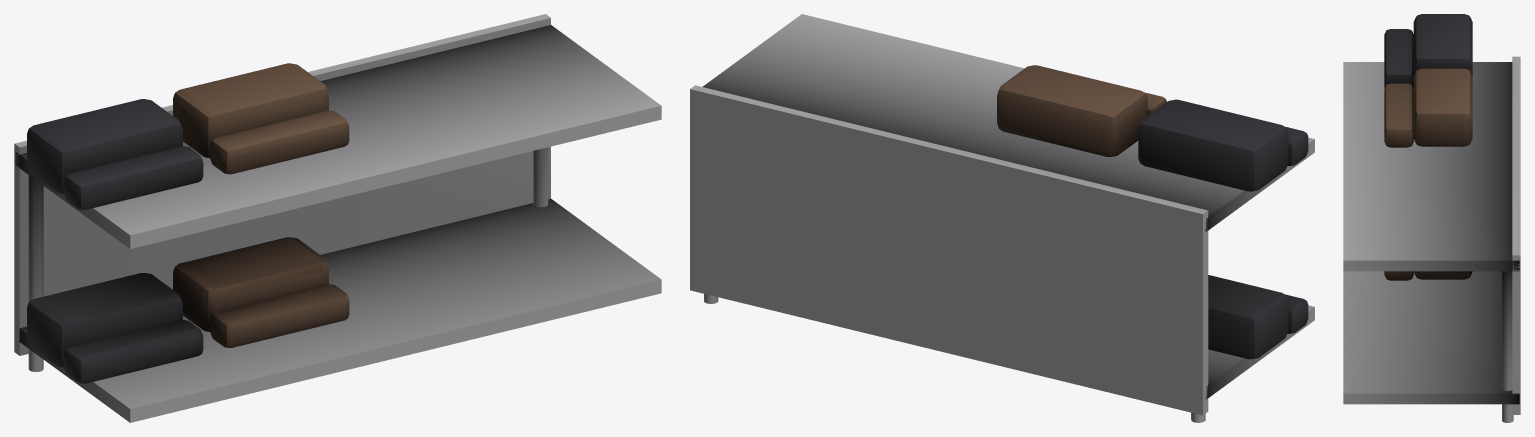
File: shoe_rack.glb
The picture shows the model from 3 angles, left to right: view 1: azimuth 30°, elevation 25°; view 2: azimuth 150°, elevation 25°; view 3: azimuth 270°, elevation 25°; orthographic projection. The views are drawn at different scales.
Visible parts, largest first — view 1: shoe_rack; view 2: shoe_rack; view 3: shoe_rack.
Part boxes in pixels (x1,y1,x2,y2): shoe_rack: [14, 14, 661, 422]; shoe_rack: [690, 14, 1314, 422]; shoe_rack: [1343, 14, 1520, 422].
Bounding box in the file's own units: 0.835 × 0.39 × 0.302.
